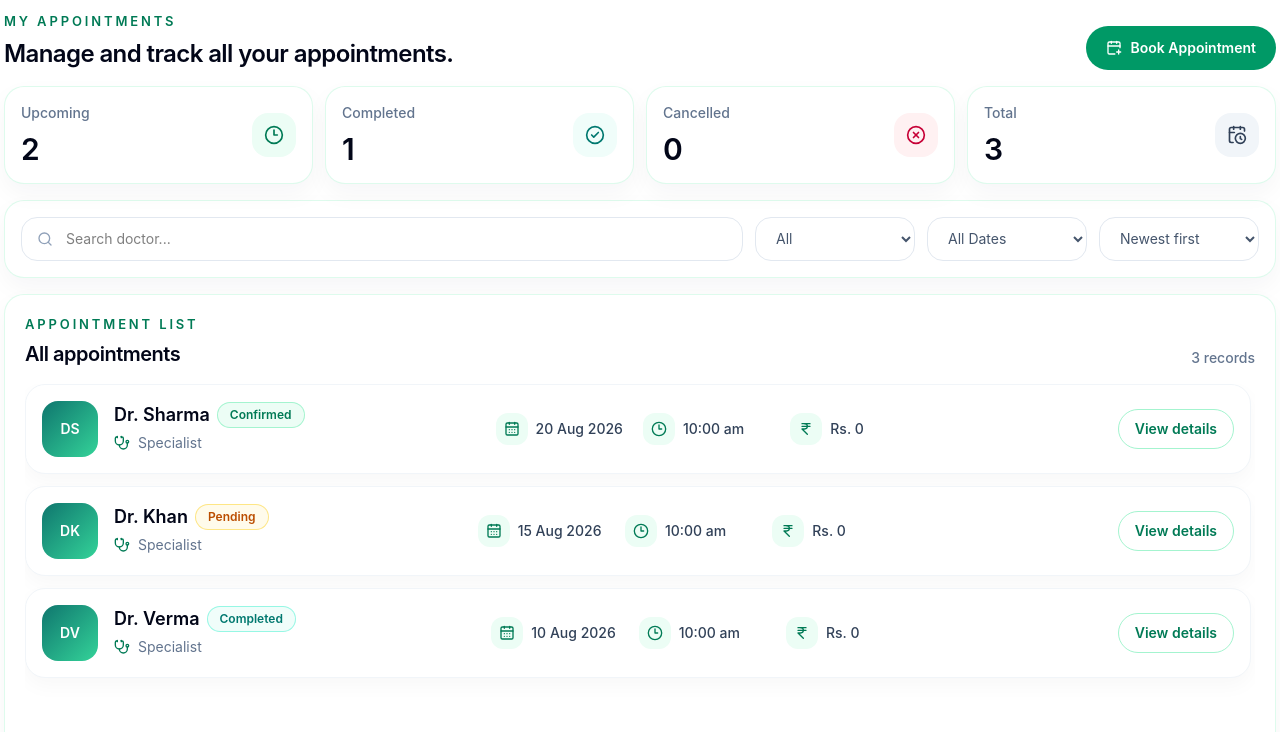
it: Patient Appointments Flow › should filter appointments by status
Select "Completed" in the 1st dropdown showing "All" at (835, 238), box [755, 216, 915, 260]
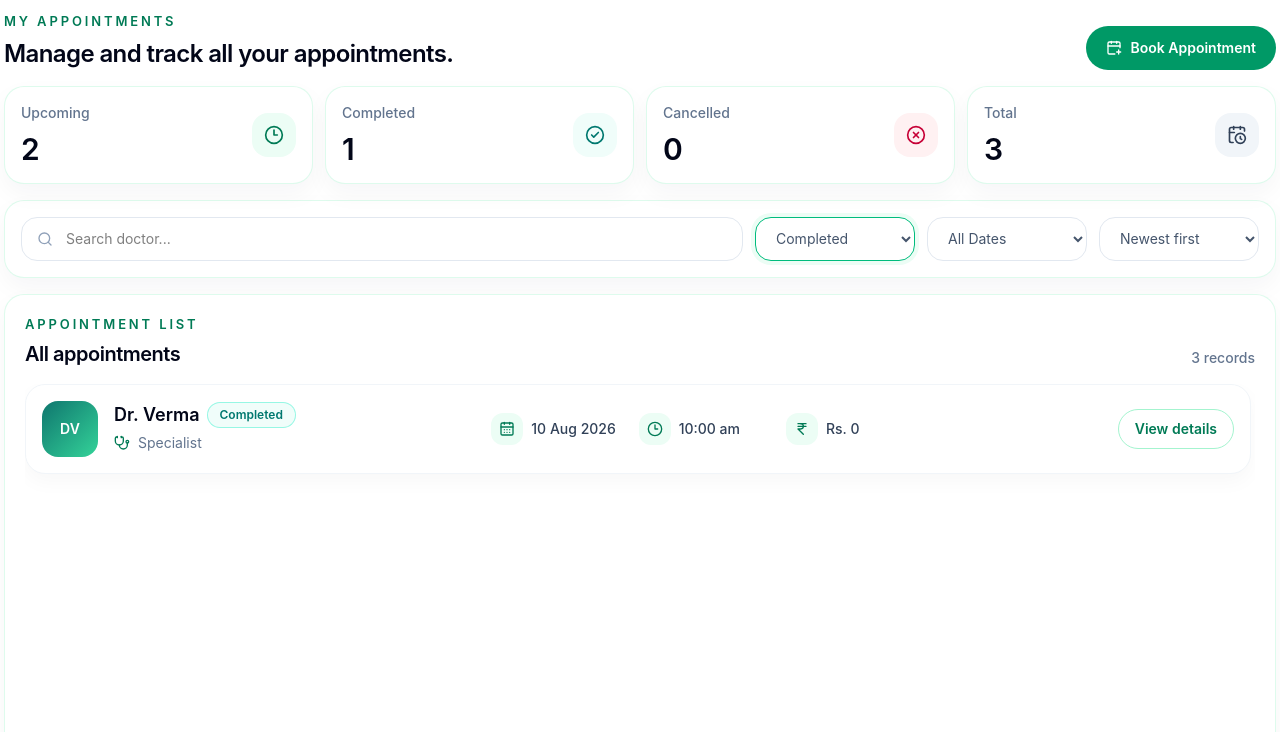
Expected: the heading "Dr. Verma" is shown, [114, 401, 200, 429]
Expected: the heading "Dr. Sharma" is gone
Expected: the heading "Dr. Khan" is gone
